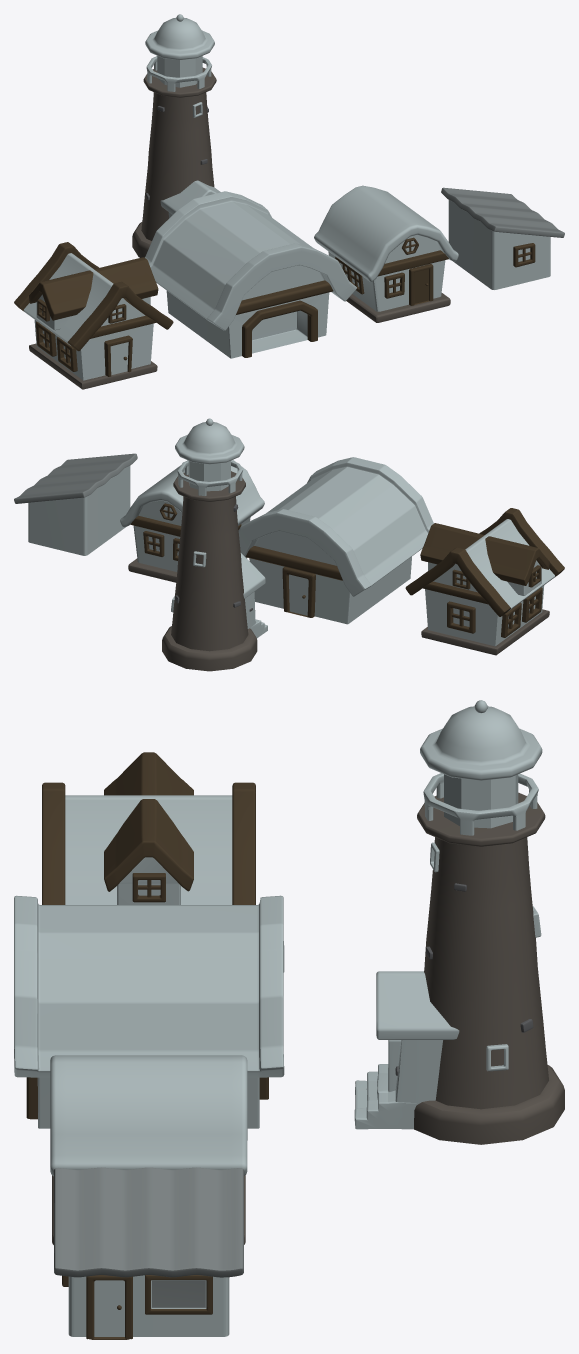
The model's file is Hus01.fbx.
The picture shows the model from 3 angles, top to bottom: view 1: azimuth 30°, elevation 25°; view 2: azimuth 150°, elevation 25°; view 3: azimuth 270°, elevation 25°; orthographic projection. The views are drawn at different scales.
Visible parts, largest first — view 1: båthus, hus1, hus2, fyr, skjul; view 2: båthus, fyr, hus1, skjul, hus2; view 3: fyr, båthus, skjul, hus1, hus2.
Part boxes in pixels (x1,y1,x2,y2): båthus: [145, 191, 356, 358]; hus1: [14, 242, 173, 389]; hus2: [314, 185, 458, 322]; fyr: [132, 14, 220, 257]; skjul: [441, 187, 564, 289]; båthus: [238, 457, 433, 624]; fyr: [162, 418, 267, 671]; hus1: [405, 508, 564, 655]; skjul: [14, 453, 137, 555]; hus2: [120, 460, 264, 582]; fyr: [354, 700, 564, 1144]; båthus: [14, 895, 284, 1128]; skjul: [54, 1167, 243, 1339]; hus1: [42, 752, 255, 904]; hus2: [50, 1055, 247, 1244].
Size of the model in its own units: 47862 by 21917 by 26094.
